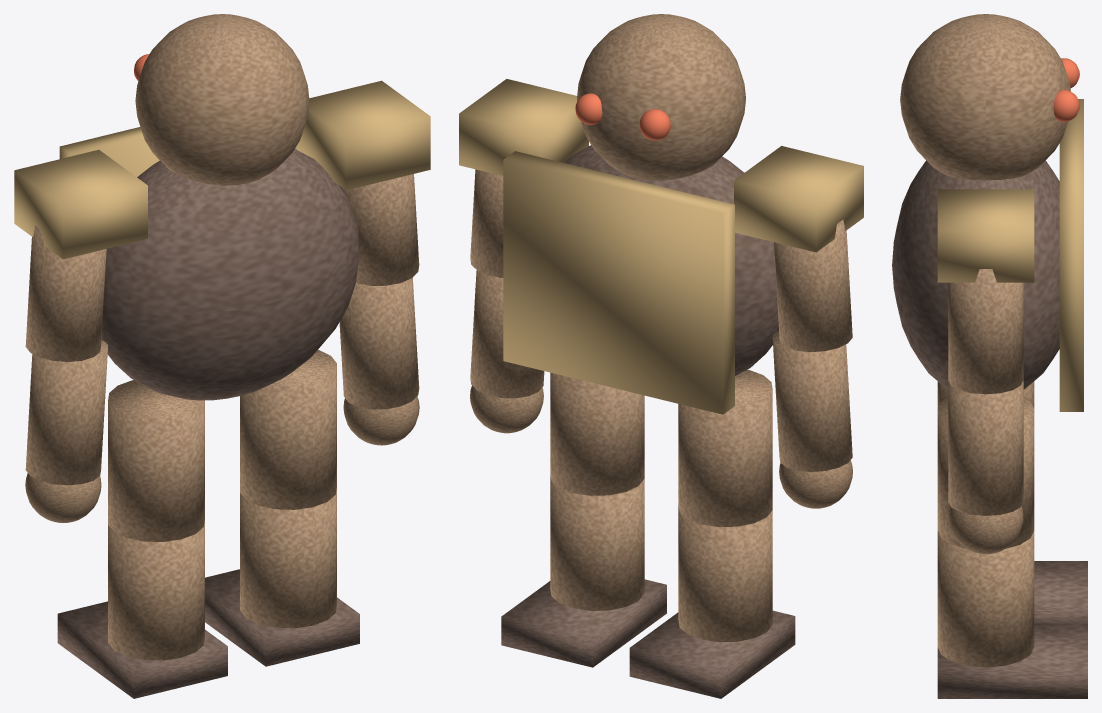
File: skeleton-knight.glb
The picture shows the model from 3 angles, left to right: view 1: azimuth 30°, elevation 25°; view 2: azimuth 150°, elevation 25°; view 3: azimuth 270°, elevation 25°; orthographic projection. The views are drawn at different scales.
Parts seen in each view (by area): view 1: Torso, Head, ThighL, ThighR, ShinR, ShinL, Pauldron, Pauldron.001, ForearmL, ForearmR, UpperArmL, FootL (+5 smaller); view 2: Chestplate, Head, ThighL, ShinR, ShinL, Pauldron, ThighR, ForearmL, Pauldron.001, FootL, FootR, Torso (+7 smaller); view 3: Head, Torso, ShinR, ForearmR, Pauldron.001, UpperArmR, FootR, Chestplate, ThighR, FootL, HandR, Eye.001 (+2 smaller).
Part boxes in pixels (x1,y1,x2,y2): Torso: [101, 149, 359, 400]; Head: [135, 14, 309, 185]; ThighL: [108, 380, 204, 541]; ThighR: [240, 349, 336, 509]; ShinR: [240, 488, 336, 628]; ShinL: [108, 520, 204, 660]; Pauldron: [14, 149, 147, 259]; Pauldron.001: [297, 80, 430, 190]; ForearmL: [25, 340, 108, 485]; ForearmR: [339, 277, 419, 409]; UpperArmL: [25, 225, 106, 361]; FootL: [57, 601, 227, 698]; Chestplate: [503, 151, 734, 414]; Head: [577, 14, 745, 180]; ThighL: [678, 369, 772, 527]; ShinR: [550, 475, 644, 610]; ShinL: [678, 505, 772, 642]; Pauldron: [734, 146, 863, 252]; ThighR: [550, 372, 644, 495]; ForearmL: [772, 331, 852, 471]; Pauldron.001: [459, 79, 588, 175]; FootL: [629, 610, 795, 698]; FootR: [501, 579, 666, 667]; Torso: [564, 145, 778, 375]; Head: [900, 14, 1070, 180]; Torso: [892, 160, 1059, 389]; ShinR: [937, 531, 1034, 667]; ForearmR: [948, 381, 1023, 515]; Pauldron.001: [937, 189, 1034, 282]; UpperArmR: [948, 269, 1023, 394]; FootR: [937, 624, 1087, 698]; Chestplate: [1059, 99, 1083, 411]; ThighR: [937, 397, 1034, 548]; FootL: [1034, 561, 1087, 624]; HandR: [948, 506, 1023, 554]; Eye.001: [1053, 90, 1079, 121].
Size of the model in its own units: 0.6367 by 1 by 0.2852.
5 materials, 3 textured.
